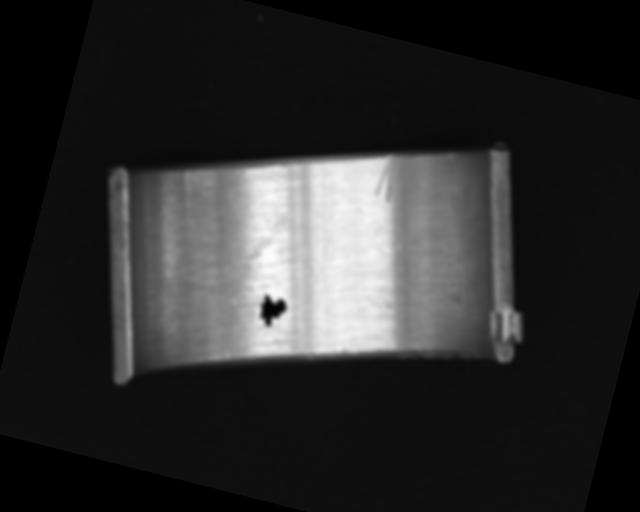blot: (253, 291, 290, 331)
nick: (372, 152, 403, 203), (446, 150, 457, 168)
